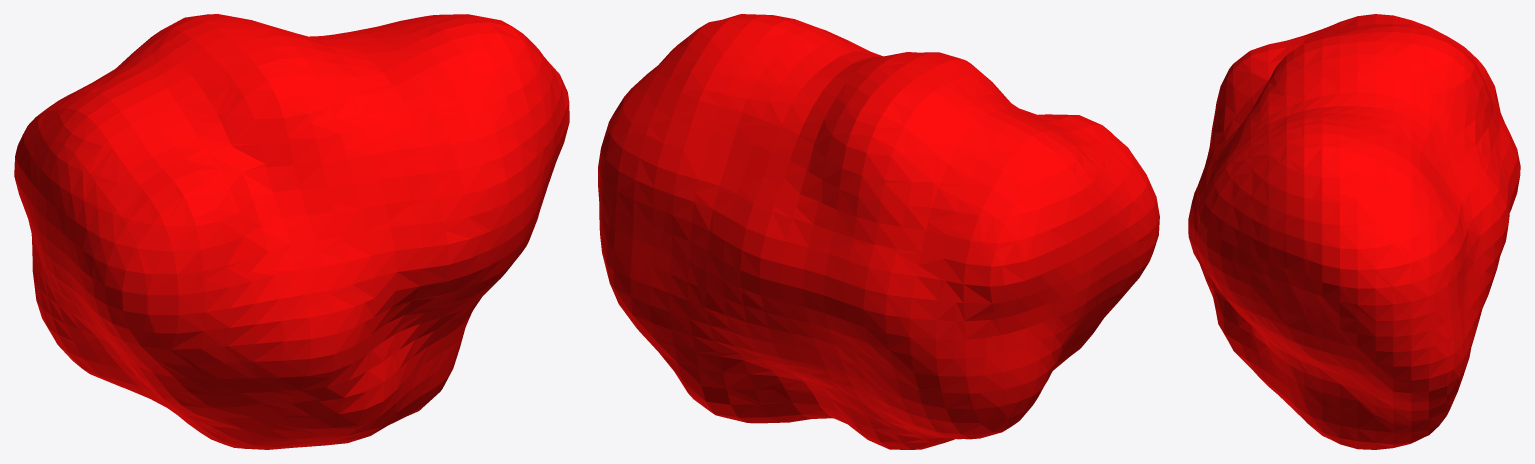
File: grxC_coarse.dae
3 renders of one model, left to right at view 1: azimuth 30°, elevation 25°; view 2: azimuth 150°, elevation 25°; view 3: azimuth 270°, elevation 25°, orthographic. The views are drawn at different scales.
Parts seen in each view (by area): view 1: grxC; view 2: grxC; view 3: grxC.
Part boxes in pixels (x1,y1,x2,y2): grxC: (14, 14, 569, 449); grxC: (598, 14, 1159, 449); grxC: (1188, 14, 1520, 449).
Size of the model in its own units: 40.29 by 30.33 by 26.32.
